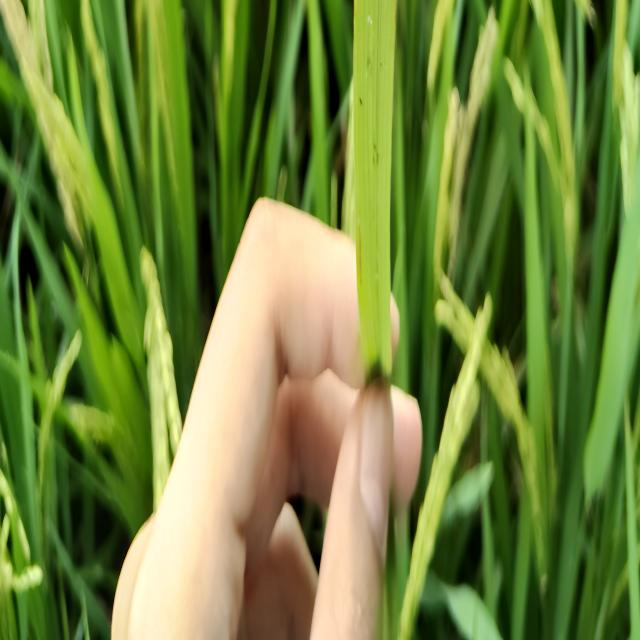NBS: (359, 230, 362, 285), (395, 0, 397, 29), (353, 0, 355, 20)
